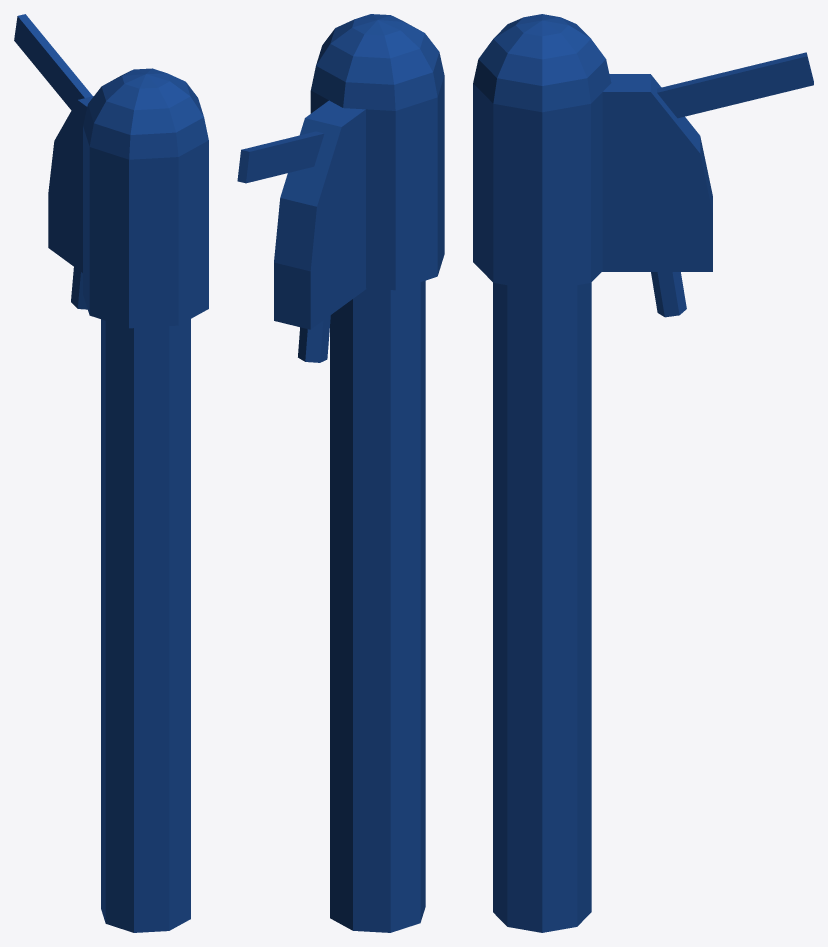
The model's file is water_column.obj.
The picture shows the model from 3 angles, left to right: view 1: azimuth 30°, elevation 25°; view 2: azimuth 150°, elevation 25°; view 3: azimuth 270°, elevation 25°; orthographic projection. The views are drawn at different scales.
Visible parts, largest first — view 1: WaterColumn; view 2: WaterColumn; view 3: WaterColumn.
Part boxes in pixels (box(x1,y1,x2,y2)): WaterColumn: box(14, 14, 208, 932); WaterColumn: box(237, 14, 444, 932); WaterColumn: box(473, 14, 813, 932).
Bounding box in the file's own units: 0.14 × 0.996 × 0.345.
